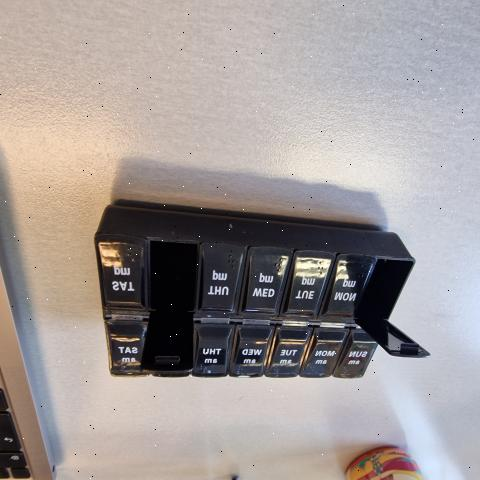Open: (141, 237, 202, 375), (357, 257, 428, 358)
